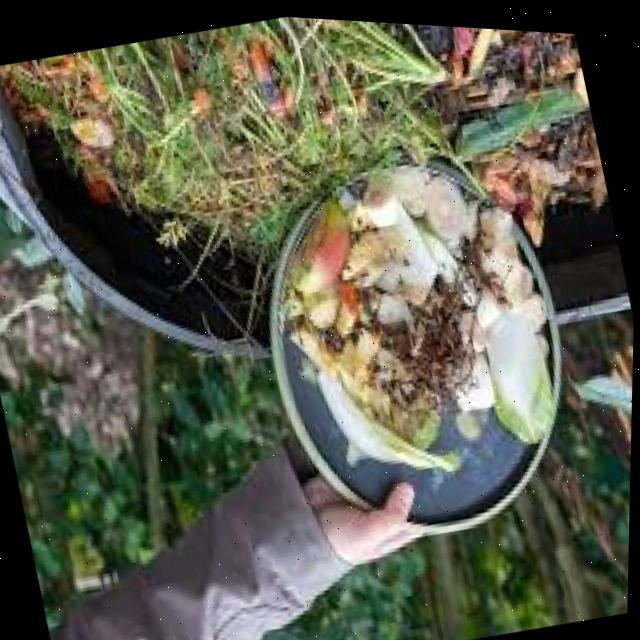Wet: (213, 117, 638, 604), (29, 2, 596, 245)
